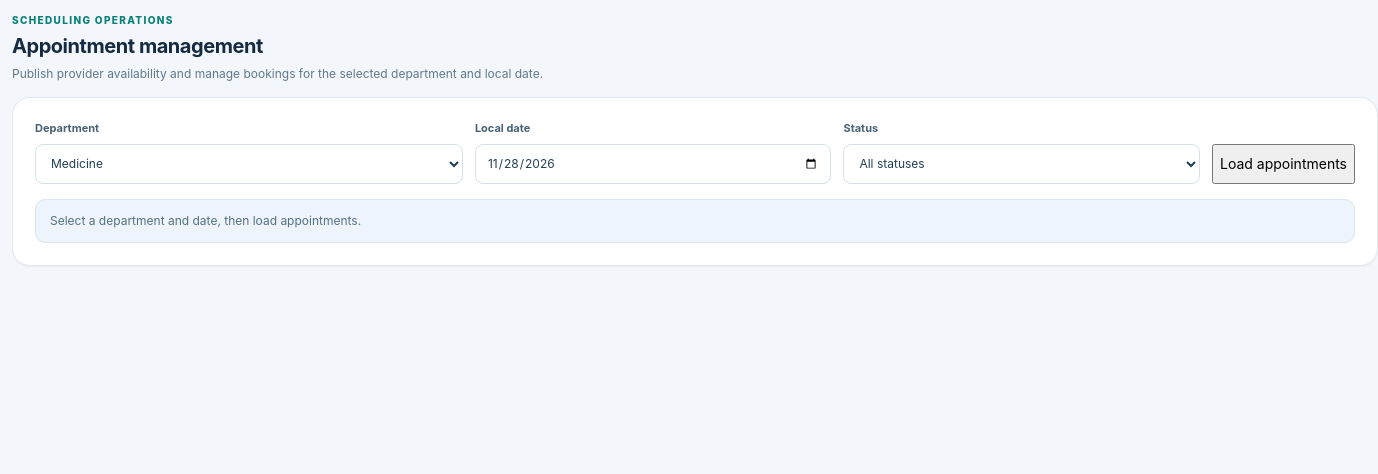
appointment management workspace › lists appointments for the selected department and supports confirmed cancellation
Click the button "Load appointments": (1284, 164) [1212, 144, 1355, 184]
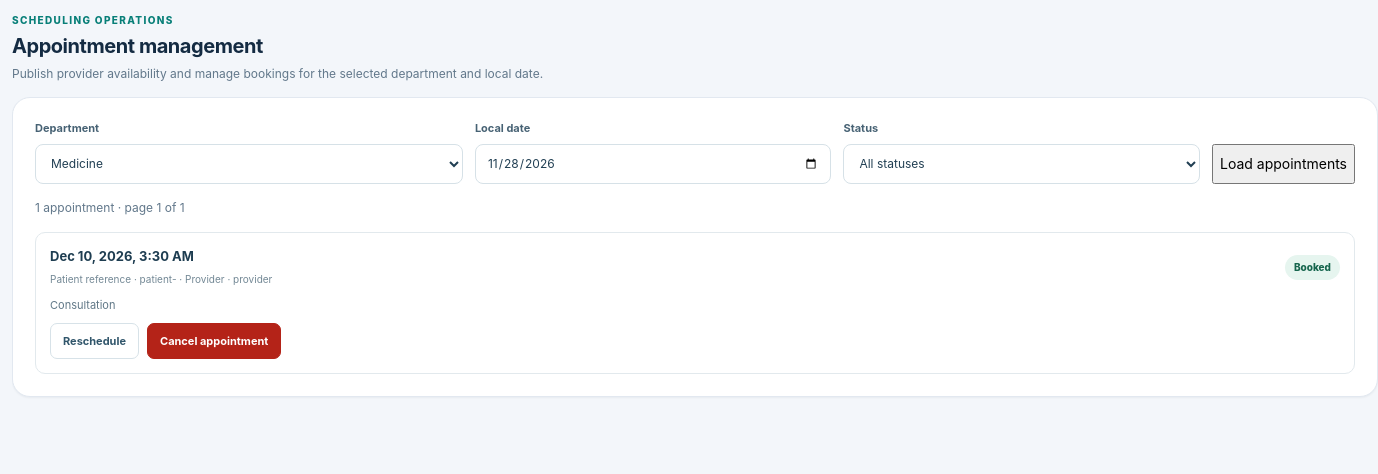
Expected: the text "Patient reference · patient- · Provider · provider" is shown, [50, 272, 272, 287]
Click the button "Cancel appointment": (214, 341) [147, 323, 281, 359]
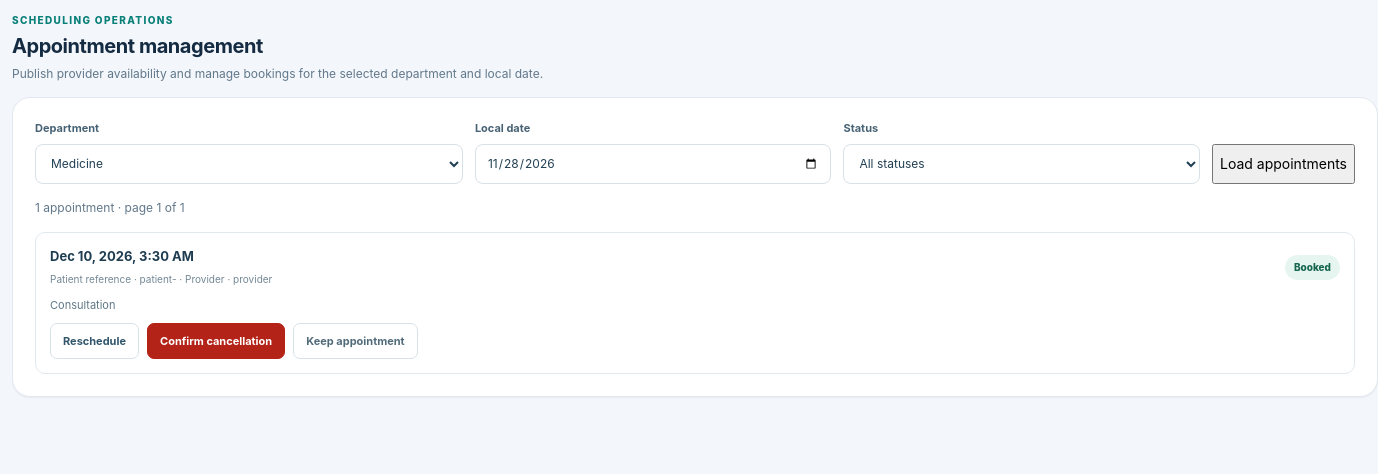
Click the button "Confirm cancellation": (216, 341) [147, 323, 285, 359]
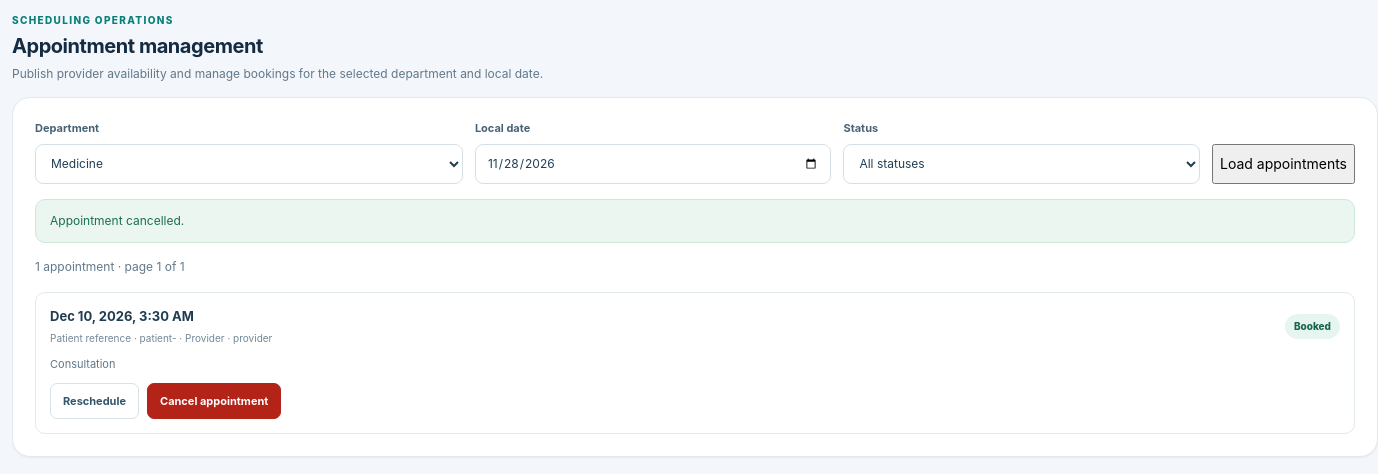
Expected: the text "Appointment cancelled." is shown, [35, 199, 1355, 243]
